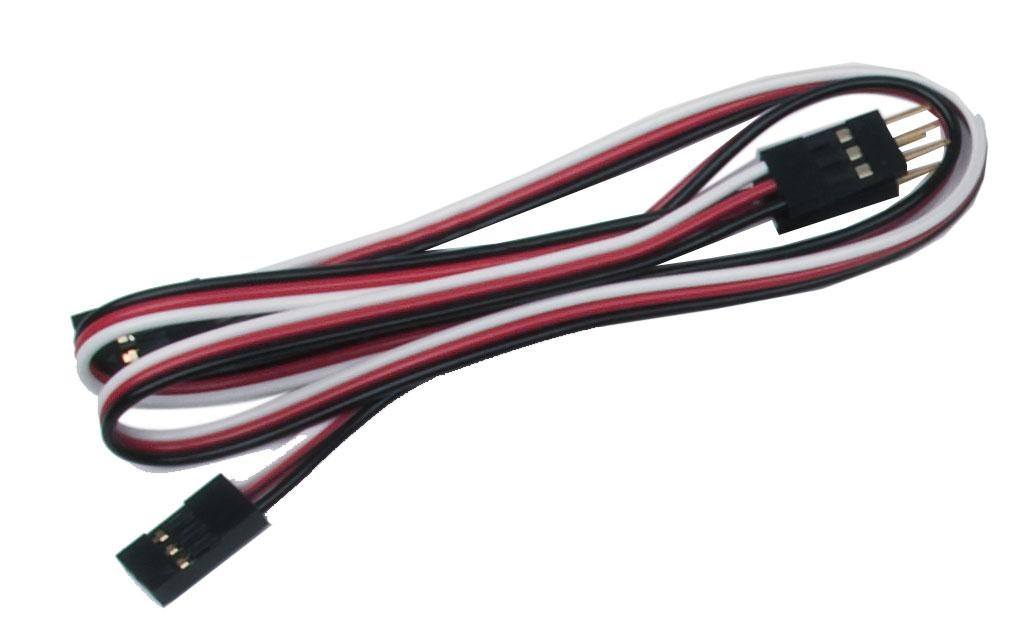Nonrec_Tangler: (26, 52, 993, 611)
